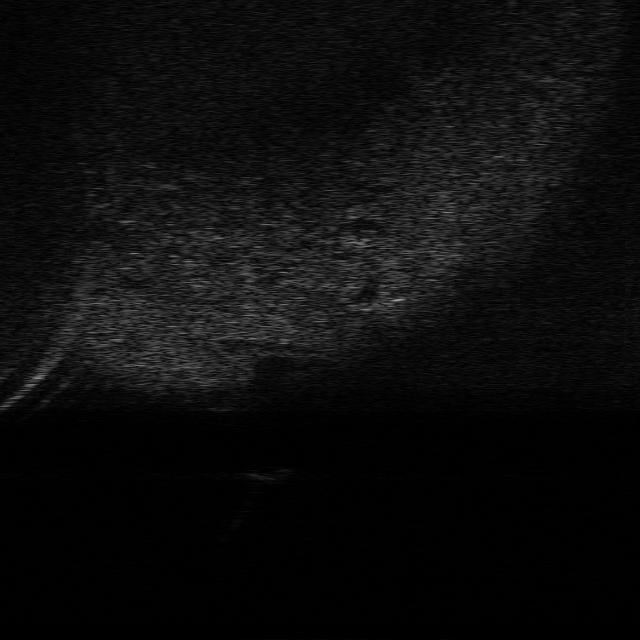cube: (248, 463, 292, 487)
